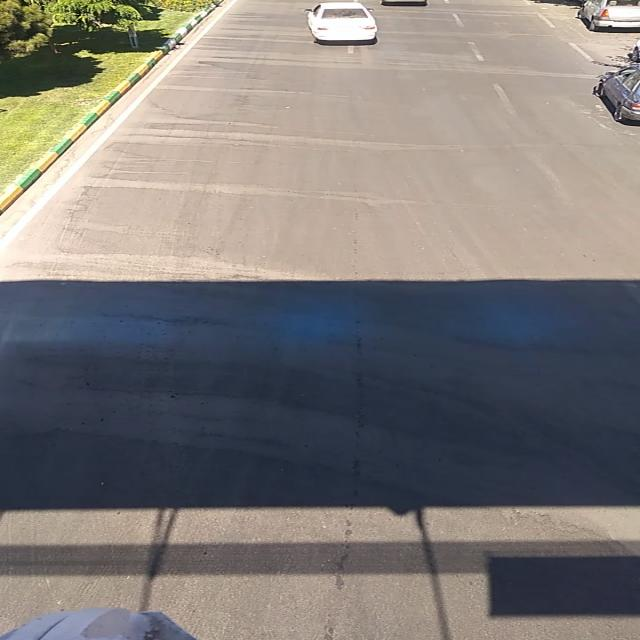car: (591, 62, 640, 126), (301, 5, 379, 41), (579, 1, 640, 31)
